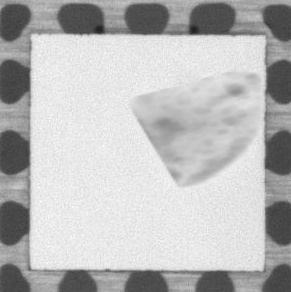DIE_INK: (126, 67, 263, 192)
